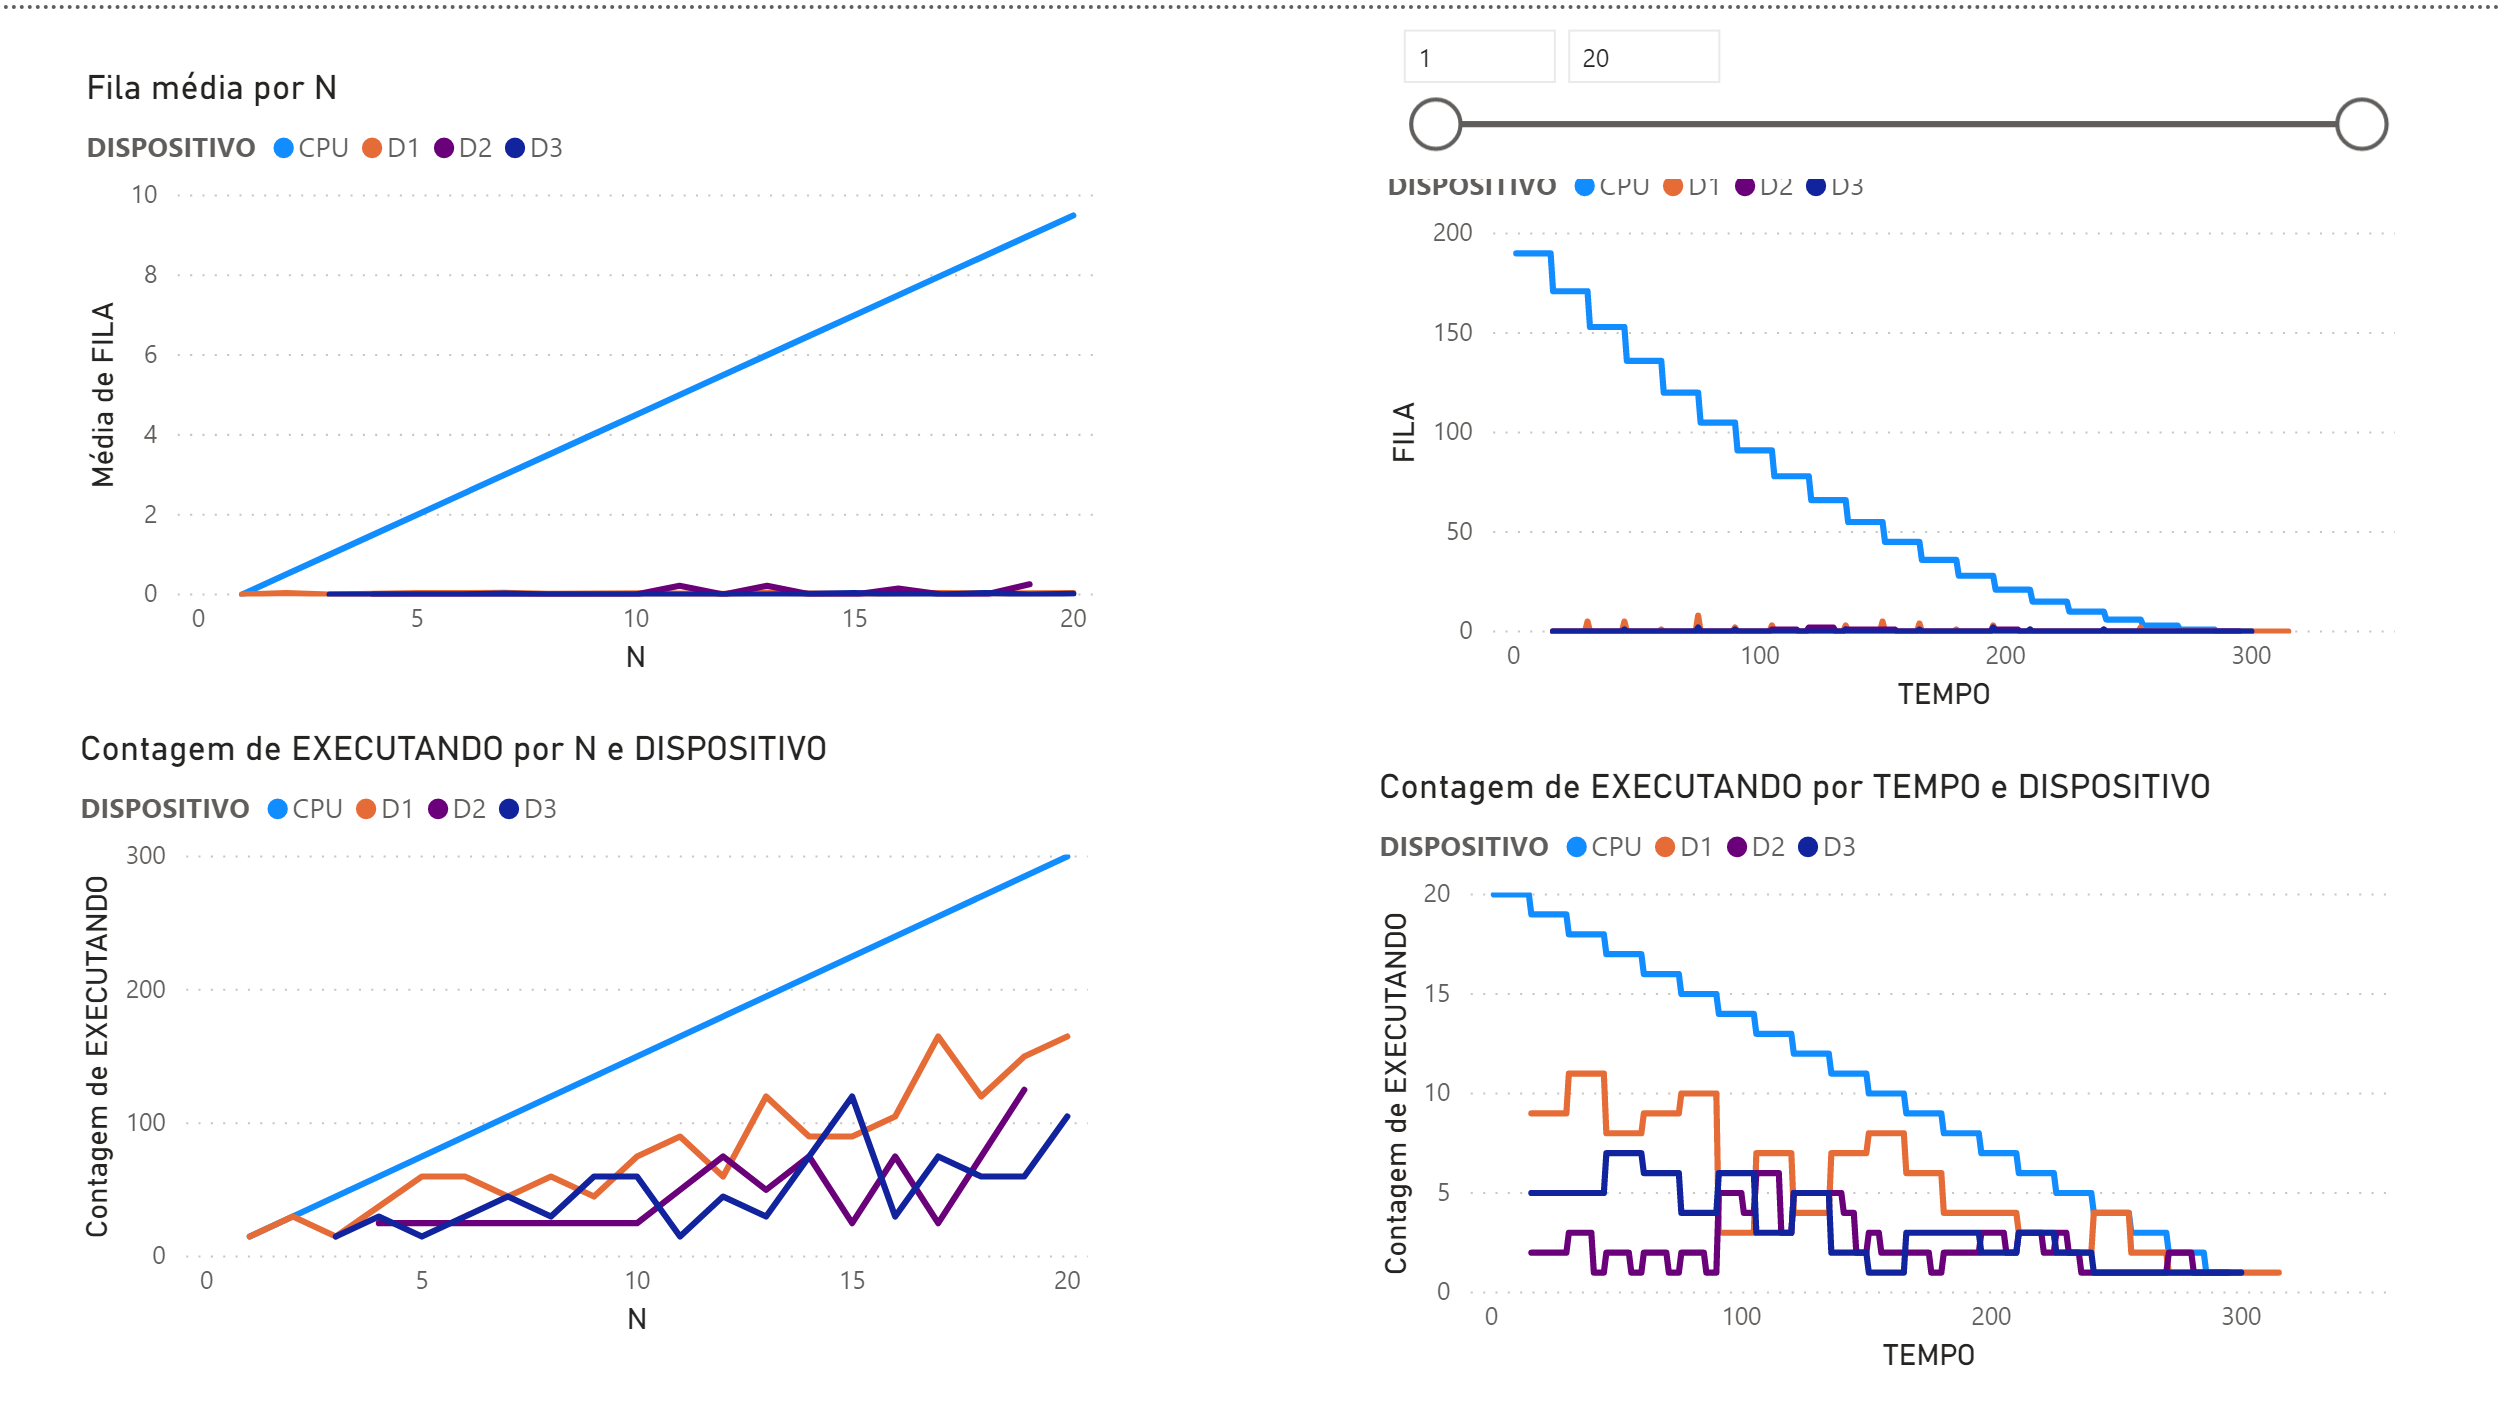

Layout of this report page (visuals, bound fields, positions):
{"tool":"powerbi","page":{"name":"Página 1","canvas":[1280,720],"ordinal":0},"visuals":[{"type":"lineChart","title":"Fila média por N","fields":{"Category":["log.N"],"Y":["Avg(log.FILA)"],"Series":["log.DISPOSITIVO"]},"box":[56.4,28.2,500,300],"z":0},{"type":"lineChart","title":"Fila média por tempo","fields":{"Category":["log.TEMPO"],"Series":["log.DISPOSITIVO"],"Y":["Sum(log.FILA)"]},"box":[688.1,46.7,499.9,299.6],"z":1},{"type":"lineChart","fields":{"Category":["log.N"],"Series":["log.DISPOSITIVO"],"Y":["CountNonNull(log.EXECUTANDO)"]},"box":[53,348.7,499.9,300.5],"z":2},{"type":"lineChart","fields":{"Category":["log.TEMPO"],"Series":["log.DISPOSITIVO"],"Y":["CountNonNull(log.EXECUTANDO)"]},"box":[684.7,367.2,499.9,299.6],"z":3},{"type":"slicer","fields":{"Values":["log.N"]},"box":[688.6,0,499.9,82.7],"z":4}]}

Visuals, with their boxes in screenshot pixels (x1, y1, x2, y2), scaled from the page's 1280x720 canvas onto the 2502x1422 screenshot:
"Fila média por N" lineChart: l=110, t=56, r=1088, b=648
"Fila média por tempo" lineChart: l=1345, t=92, r=2322, b=684
lineChart - log.N x log.DISPOSITIVO: l=104, t=689, r=1081, b=1282
lineChart - log.TEMPO x log.DISPOSITIVO: l=1338, t=725, r=2316, b=1317
slicer - log.N: l=1346, t=0, r=2323, b=163
